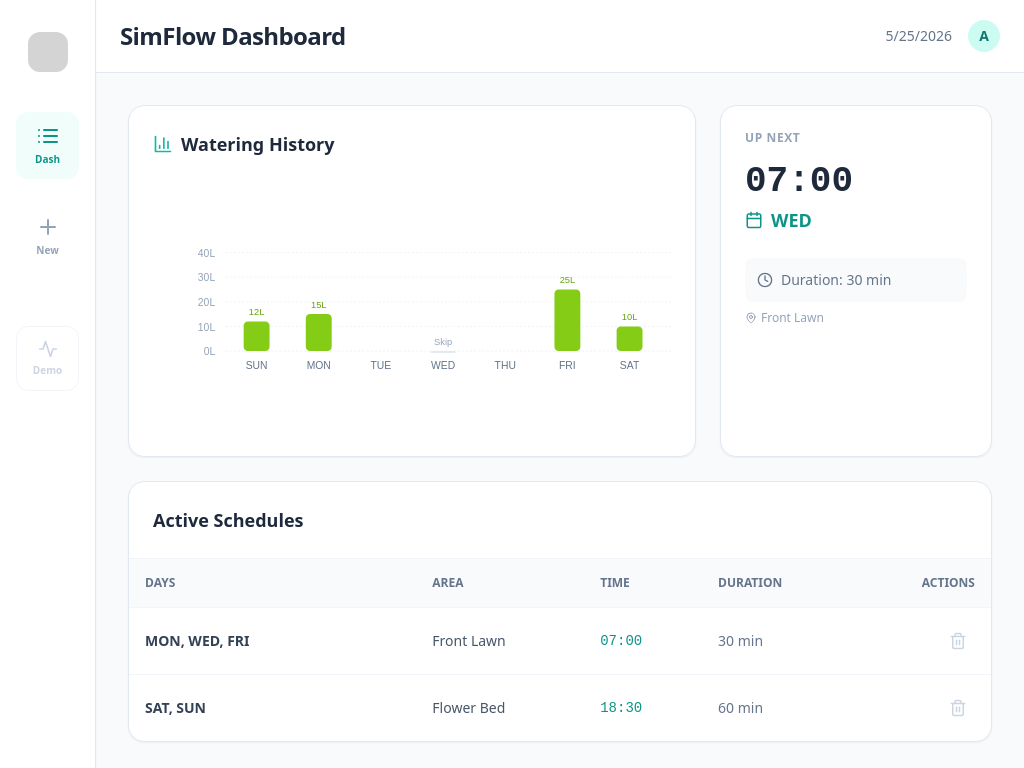
Test: Navigation › switches to add form view when clicking New button
Note: Find and click the "New" button (desktop nav)
Click the button "New" at (48, 236), box x1=16 y1=203 x2=79 y2=270
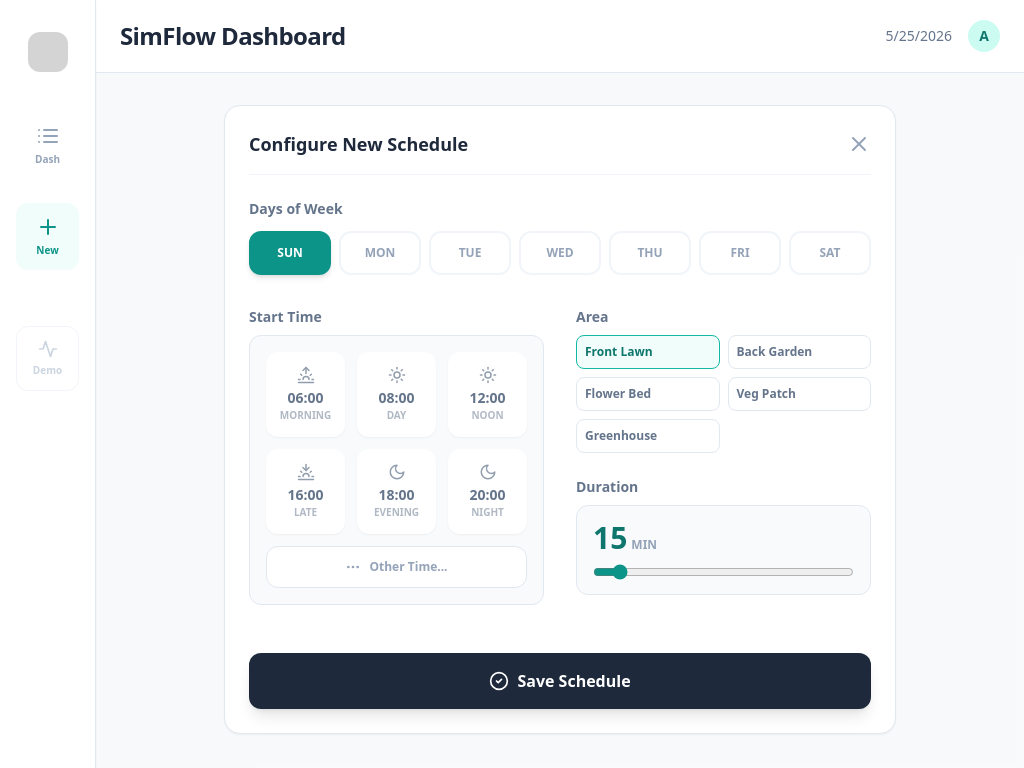
Expected: the heading "Configure New Schedule" is shown, x1=249 y1=130 x2=468 y2=158
